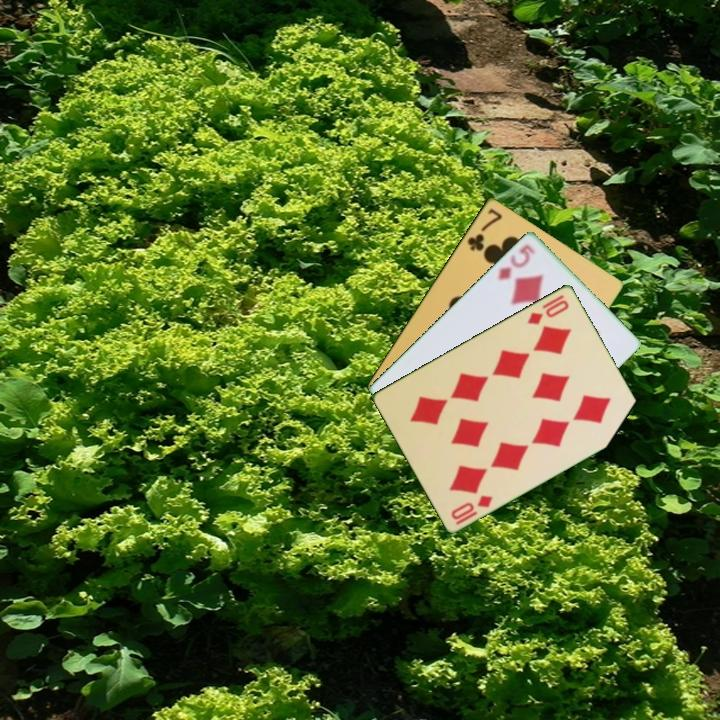10d: (447, 491, 496, 528), (523, 296, 572, 327)
5d: (494, 240, 538, 283)
7c: (463, 204, 505, 254)
